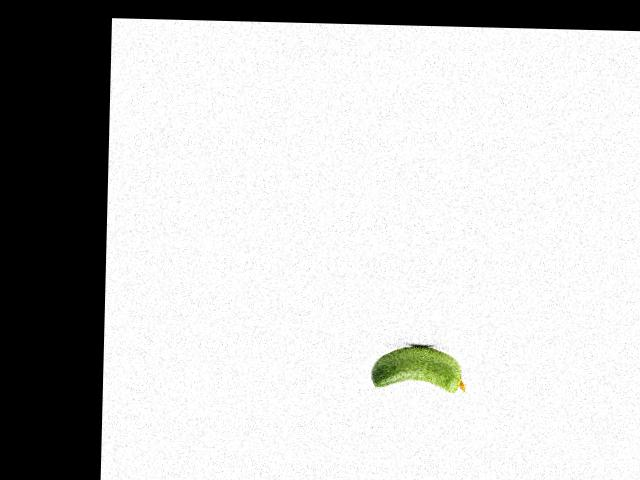cucumber: (369, 344, 466, 393)
